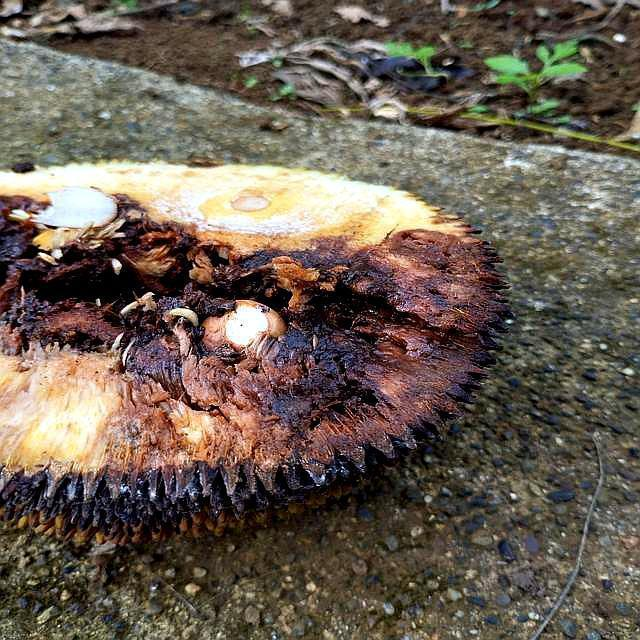Biodegradable: (1, 165, 505, 520)
